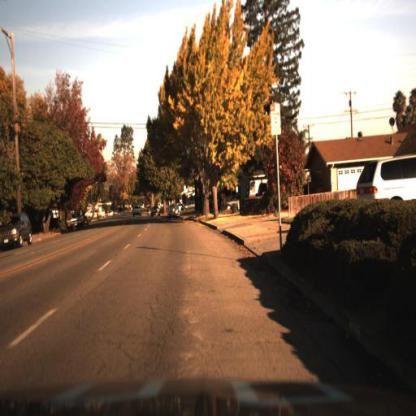car: (357, 156, 416, 215), (1, 207, 35, 255), (65, 210, 86, 231), (223, 194, 244, 215), (149, 205, 164, 224), (182, 200, 199, 216), (167, 203, 182, 219), (169, 205, 183, 221), (134, 202, 144, 218)
